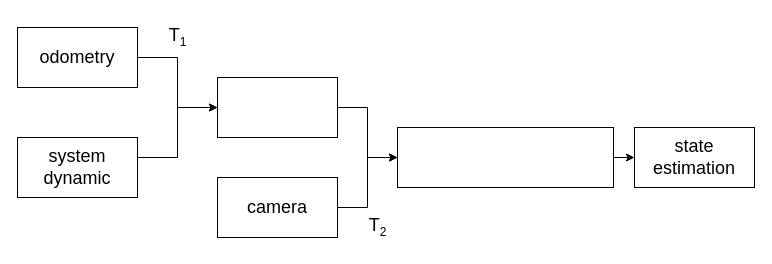
Some shapes in this 772 by 264 pixel diagram are drawn without their labels. The shapes that lost their labels are listed below. From the top down, each one's centre as x and y in pixels, then its label:
At (x=277, y=107): "Kalman filter".
At (x=505, y=157): "multi-rate Kalman filter".
